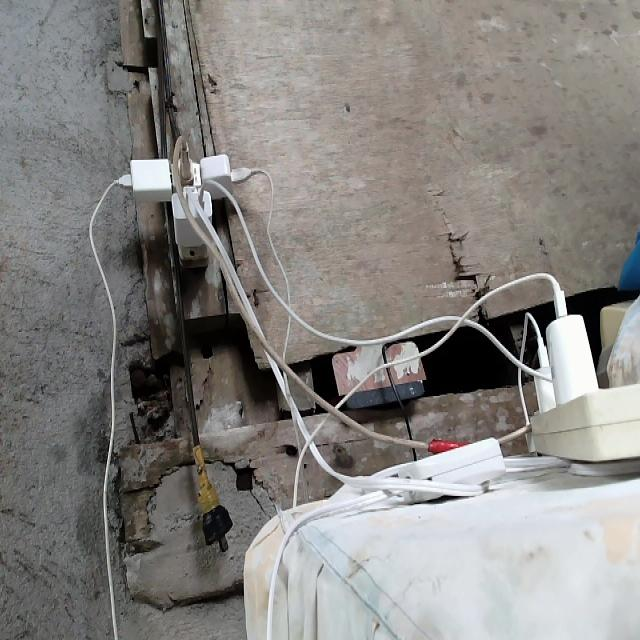-: (117, 136, 247, 273)
